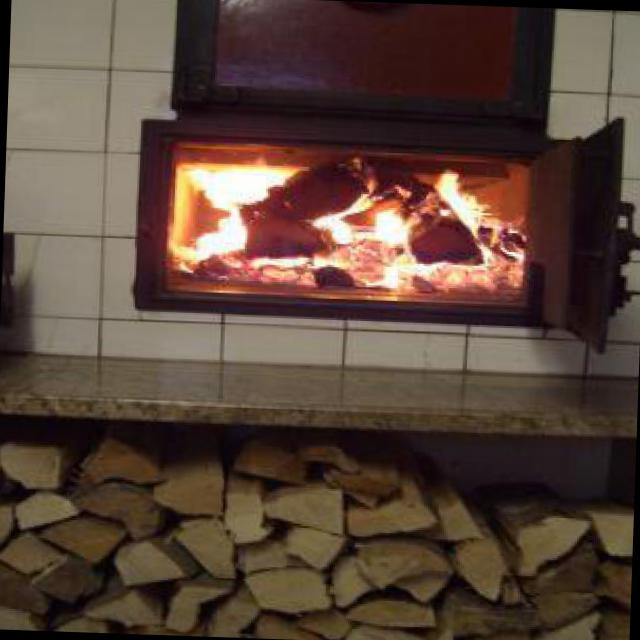fire: (170, 154, 530, 312)
